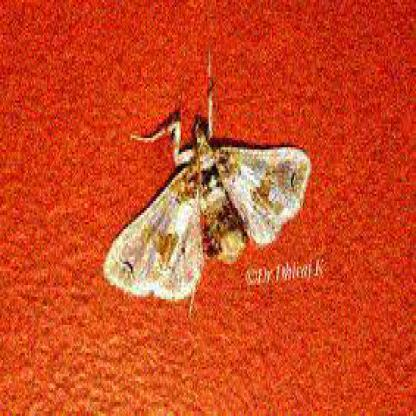leucinodes: (102, 80, 308, 300)
